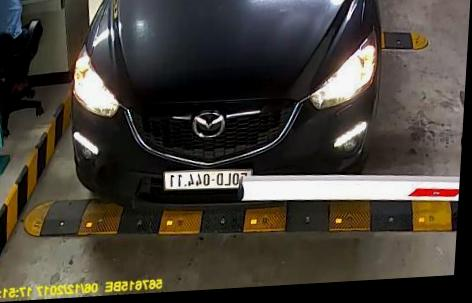License_Plate: (162, 163, 253, 194)
